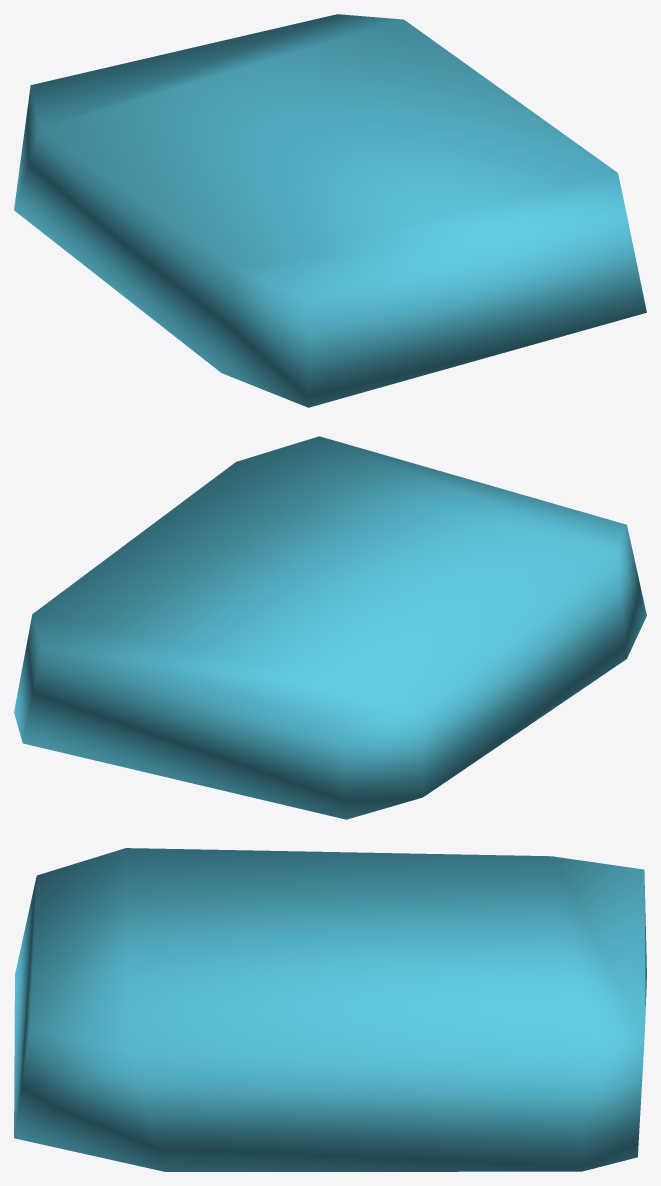
Rendered from brick_13.FBX.
3 renders of one model, top to bottom at view 1: azimuth 30°, elevation 25°; view 2: azimuth 150°, elevation 25°; view 3: azimuth 270°, elevation 25°, orthographic. The views are drawn at different scales.
Parts seen in each view (by area): view 1: brick_13; view 2: brick_13; view 3: brick_13.
Boxes of the visible parts, x1,y1,x2,y2 form: brick_13: (14,14,646,407); brick_13: (14,436,646,819); brick_13: (14,848,646,1171).
Bounding box in the file's own units: 15.55 × 3.9 × 18.94.
